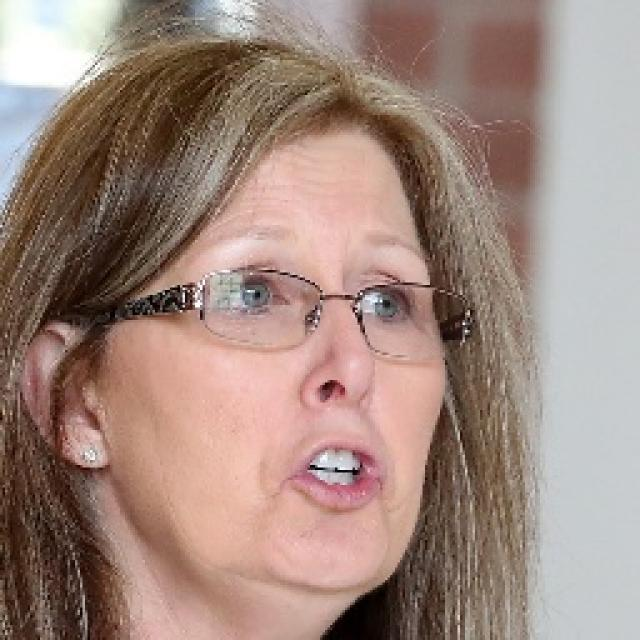earlobe: (18, 320, 111, 470)
